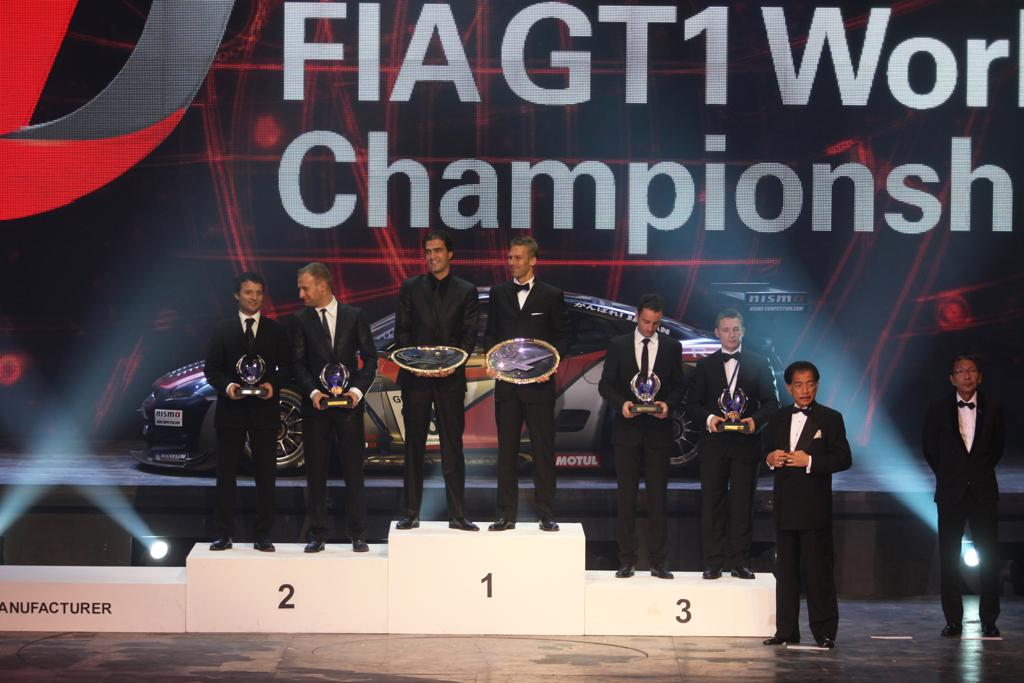face: (791, 370, 815, 405), (952, 359, 978, 391), (718, 318, 742, 348), (238, 282, 262, 311), (297, 274, 318, 306), (639, 306, 660, 337), (508, 249, 529, 277), (425, 243, 446, 270)
